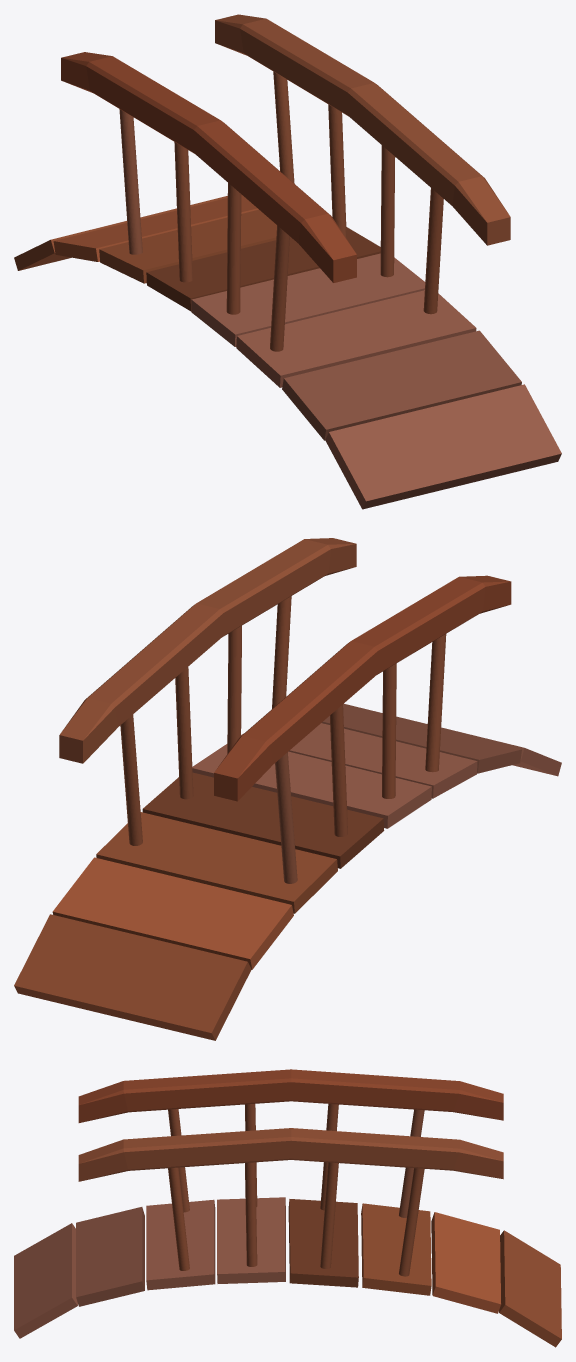
Rendered from Bridge1.fbx.
3 renders of one model, top to bottom at view 1: azimuth 30°, elevation 25°; view 2: azimuth 150°, elevation 25°; view 3: azimuth 270°, elevation 25°, orthographic. The views are drawn at different scales.
Parts seen in each view (by area): view 1: Cylinder.001; view 2: Cylinder.001; view 3: Cylinder.001.
Part boxes in pixels (<box>): Cylinder.001: <box>14,14,561,509</box>; Cylinder.001: <box>14,538,561,1040</box>; Cylinder.001: <box>14,1069,561,1347</box>.
Bounding box in the file's own units: 203 × 259 × 621.
